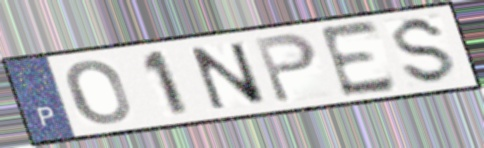1: (142, 47, 193, 119)
E: (315, 17, 401, 100)
N: (186, 40, 272, 112)
O: (63, 58, 134, 127)
P: (251, 30, 320, 106)
S: (391, 14, 460, 87)
